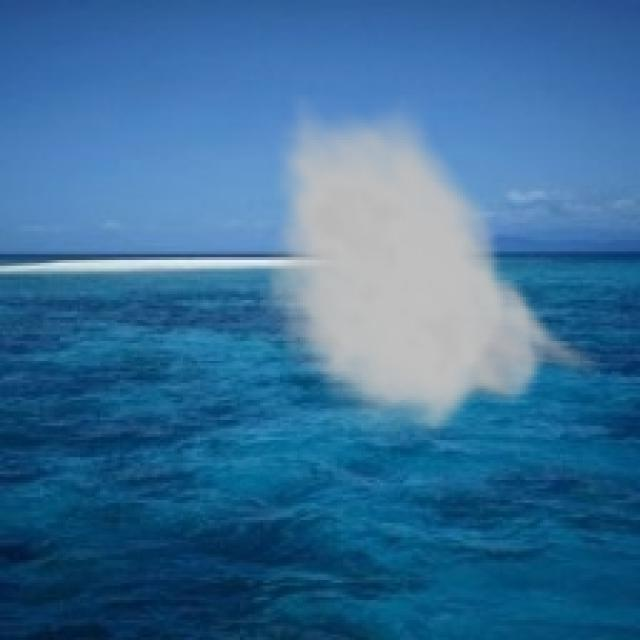Smoke: (260, 91, 609, 446)
